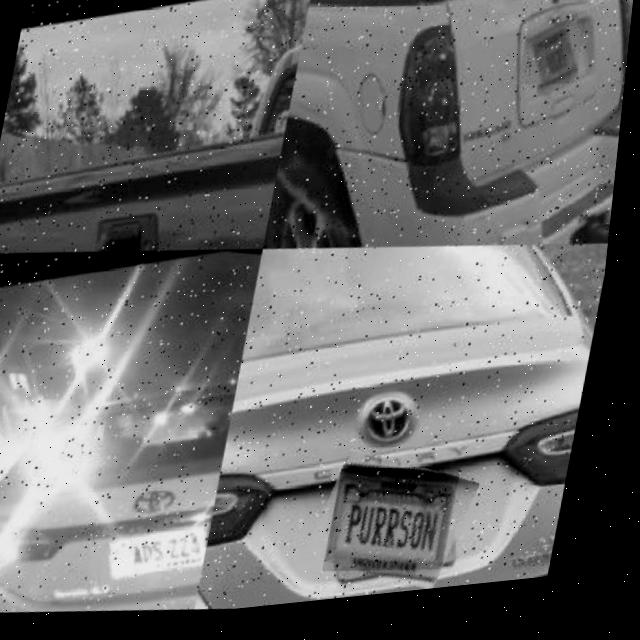LicensePlate: (96, 496, 228, 607), (338, 478, 470, 580), (529, 24, 580, 96)
